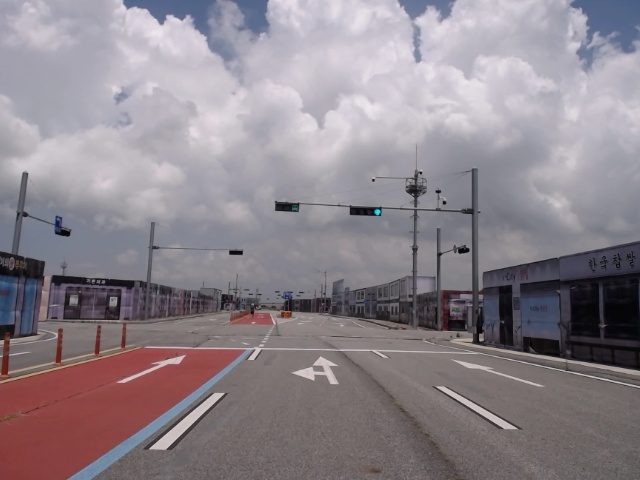straight_green_4: (349, 206, 384, 216)
